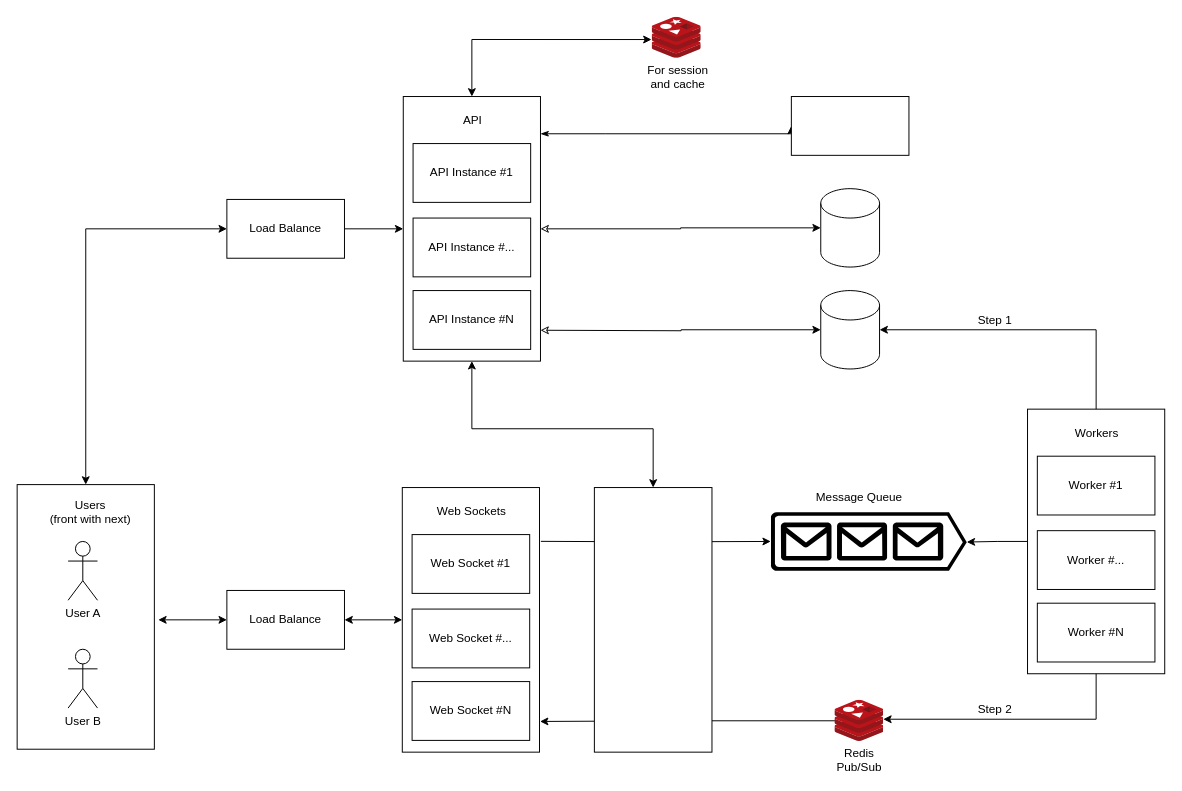
Some shapes in this 1182 by 791 pixel diagram are drawn without their labels. The shapes that lost their labels are listed below. From the top down, each one's centre as x and y in pixels, then its label:
(x=849, y=125): Search Provider
(x=850, y=227): PgSql
(x=850, y=329): MongDB
(x=652, y=619): Autentication
